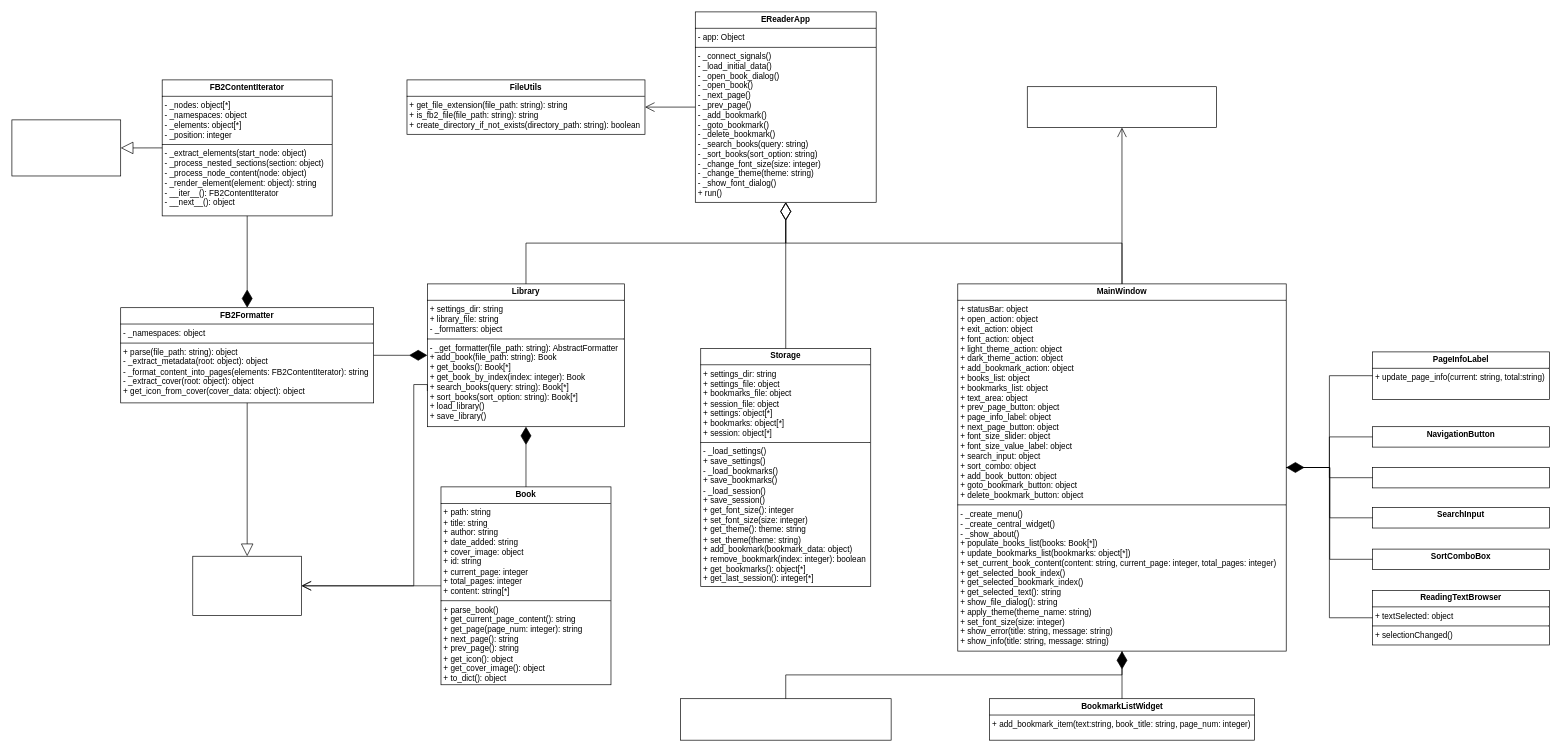
Image size: 1561x752. Some labels were removed from this diagram. The shapes that lost their labels are listed below. From the top down, each one's centre as x and y in pixels, then its label:
the point at 1122,107: ThemeManager + apply_theme(widget: object, theme_name: string)
the point at 66,147: <<interface>> BookIterator - __iter__() - __next__()
the point at 1460,477: FontSizeSlider
the point at 247,585: <<interface>> AbstractFormatter - parse() - get_icon_from_cover()
the point at 785,719: BookListWidget + add_book_item(title:string, author: string, icon: object)
